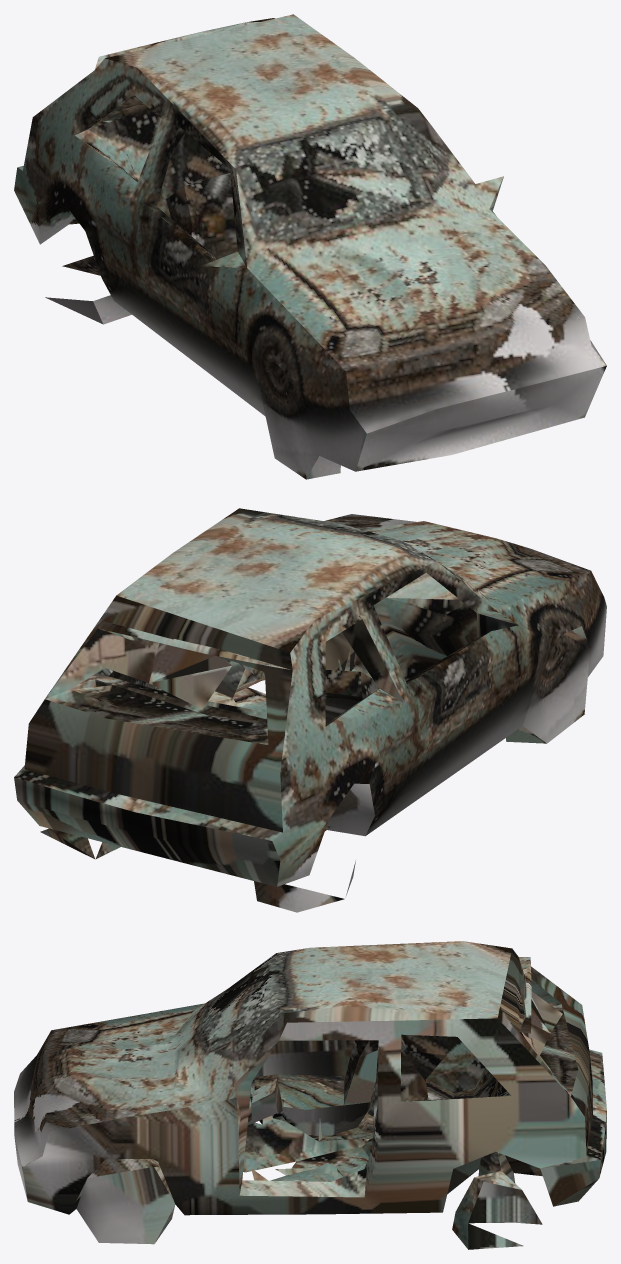
The model's file is wreck.glb.
3 views of the same model, one above another, from view 1: azimuth 30°, elevation 25°; view 2: azimuth 150°, elevation 25°; view 3: azimuth 270°, elevation 25° (orthographic). The views are drawn at different scales.
Bounding box in the file's own units: 1.01 × 0.7895 × 1.99.
1 material, 1 textured.
